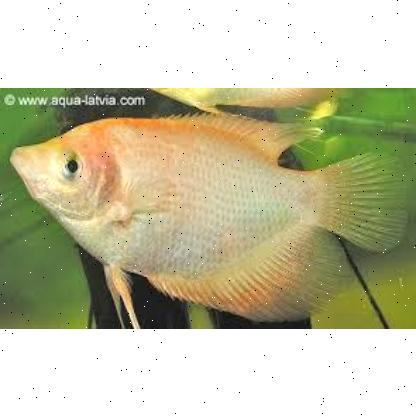gurame: (9, 113, 396, 322)
